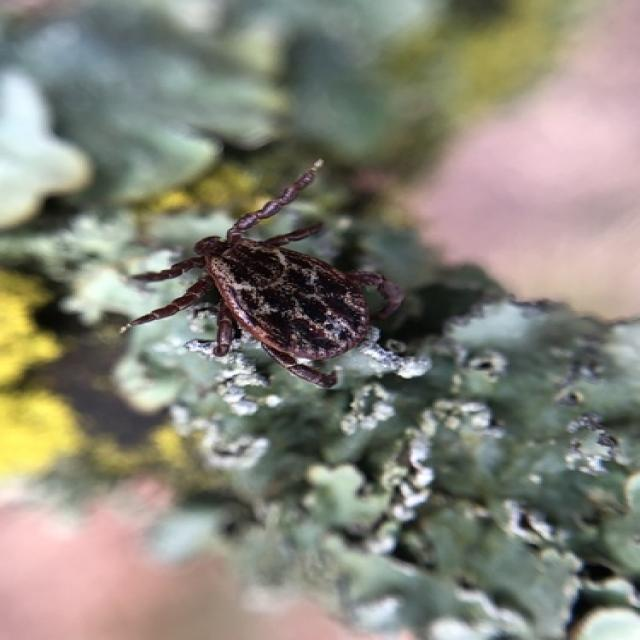Dermacentor Reticulatus-M: (119, 172, 403, 388)
